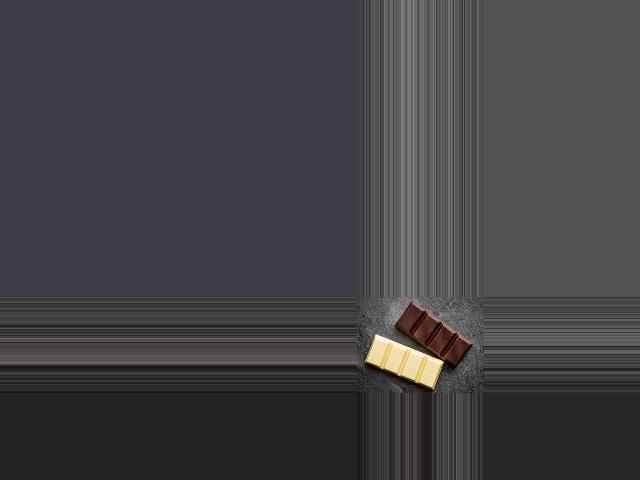chocolate: (360, 303, 471, 388)
